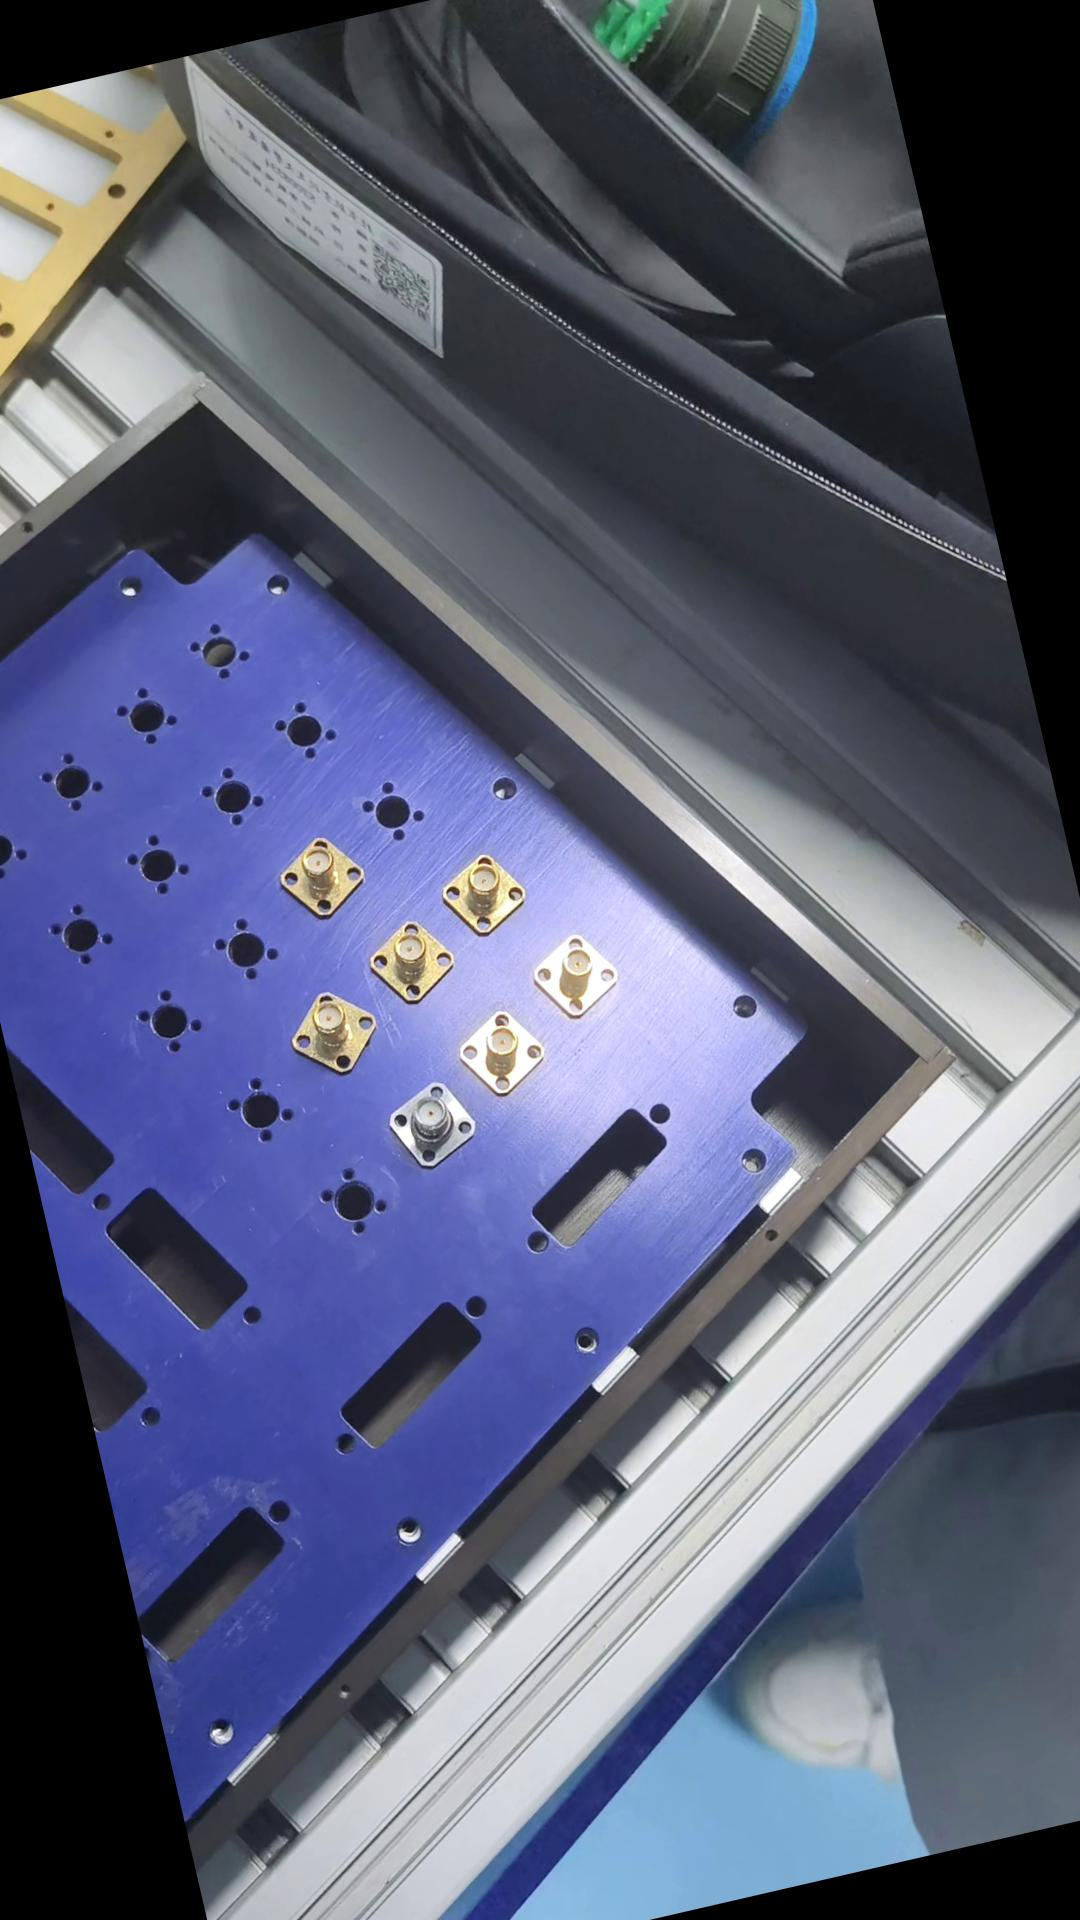SMA: (378, 1072, 483, 1182), (276, 982, 380, 1084), (444, 1000, 543, 1104), (356, 909, 454, 1014), (269, 829, 371, 927), (430, 844, 527, 944), (526, 924, 622, 1026)
